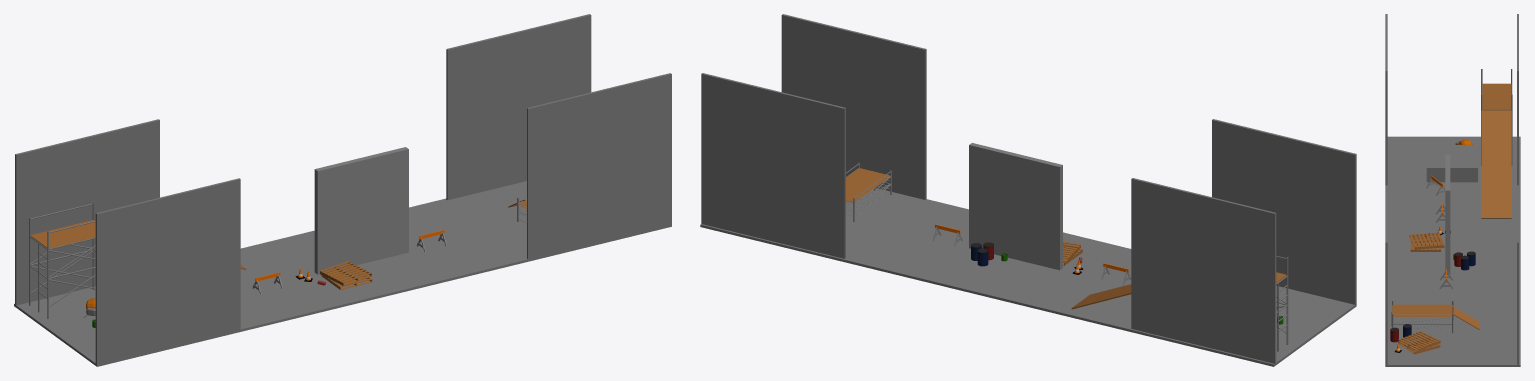
Rendered from 1x4Room.fbx.
3 renders of one model, left to right at view 1: azimuth 30°, elevation 25°; view 2: azimuth 150°, elevation 25°; view 3: azimuth 270°, elevation 25°, orthographic. The views are drawn at different scales.
Visible parts, largest first — view 1: Plane.009, Plane.010, Plane.008, Plane.007, Cube.051, Plane.005, Plane.004, Plane.003, Plane.006, Cube.047, Cube.056; view 2: Plane.007, Plane.008, Plane.009, Plane.010, Cube.051, Plane.005, Plane.004, Plane.003, Plane.006, Cube.049, Cube.047, Cube.048; view 3: Plane.005, Plane.006, Plane.004, Plane.003, Cube.048, Plane.020, Cube.049, Cube.047, Cube.051, Plane.010, Cube.058, Plane.009 (+9 smaller).
Boxes of the visible parts, x1,y1,x2,y2 form: Plane.009: (95, 178, 240, 364); Plane.010: (527, 73, 671, 259); Plane.008: (446, 14, 591, 200); Plane.007: (15, 119, 159, 305); Cube.051: (314, 147, 408, 274); Plane.005: (302, 199, 527, 296); Plane.004: (240, 234, 384, 331); Plane.003: (14, 286, 240, 366); Plane.006: (445, 181, 671, 261); Cube.047: (29, 201, 95, 318); Cube.056: (320, 261, 371, 285); Plane.007: (1131, 178, 1276, 363); Plane.008: (701, 73, 845, 258); Plane.009: (1212, 119, 1356, 304); Plane.010: (781, 14, 926, 199); Cube.051: (969, 143, 1062, 270); Plane.005: (843, 199, 1069, 296); Plane.004: (987, 234, 1131, 331); Plane.003: (1130, 285, 1356, 366); Plane.006: (700, 188, 924, 261); Cube.049: (846, 163, 891, 221); Cube.047: (1276, 256, 1288, 351); Cube.048: (1071, 284, 1131, 309); Plane.005: (1387, 250, 1520, 307); Plane.006: (1385, 308, 1520, 366); Plane.004: (1387, 193, 1520, 250); Plane.003: (1387, 136, 1520, 193); Cube.048: (1481, 110, 1511, 218); Plane.020: (1426, 145, 1477, 182); Cube.049: (1391, 300, 1453, 333); Cube.047: (1481, 69, 1512, 165); Cube.051: (1445, 154, 1450, 274); Plane.010: (1385, 185, 1387, 364); Cube.058: (1398, 331, 1440, 351); Plane.009: (1385, 14, 1387, 185).
Bounding box in the file's own units: 14400 × 3674 × 3600.
